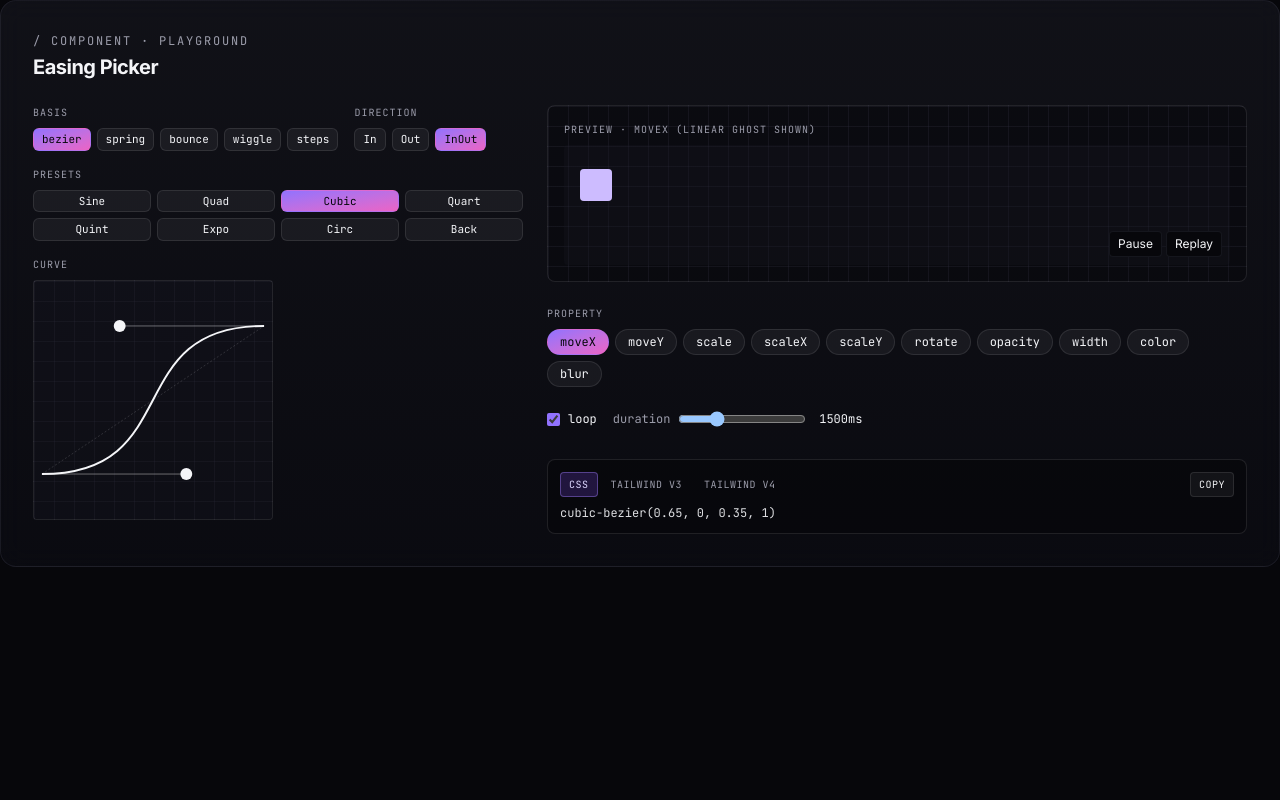
Test: EasingPlayground › clicking a family pill updates the displayed easing string
Click the button "Sine" at (92, 201), box [33,190,151,212]
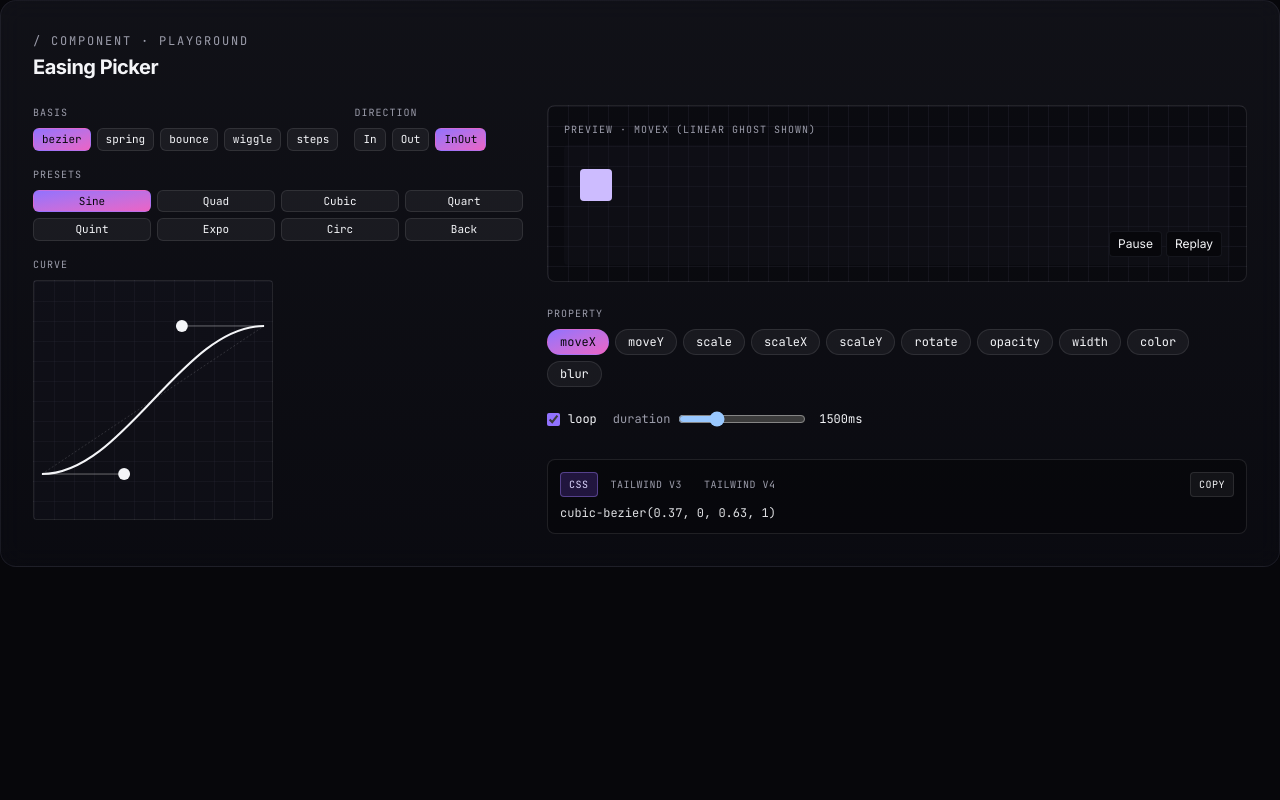
Expected: the text "cubic-bezier(0.37, 0, 0.63, 1)" is shown, [560,505,776,521]
